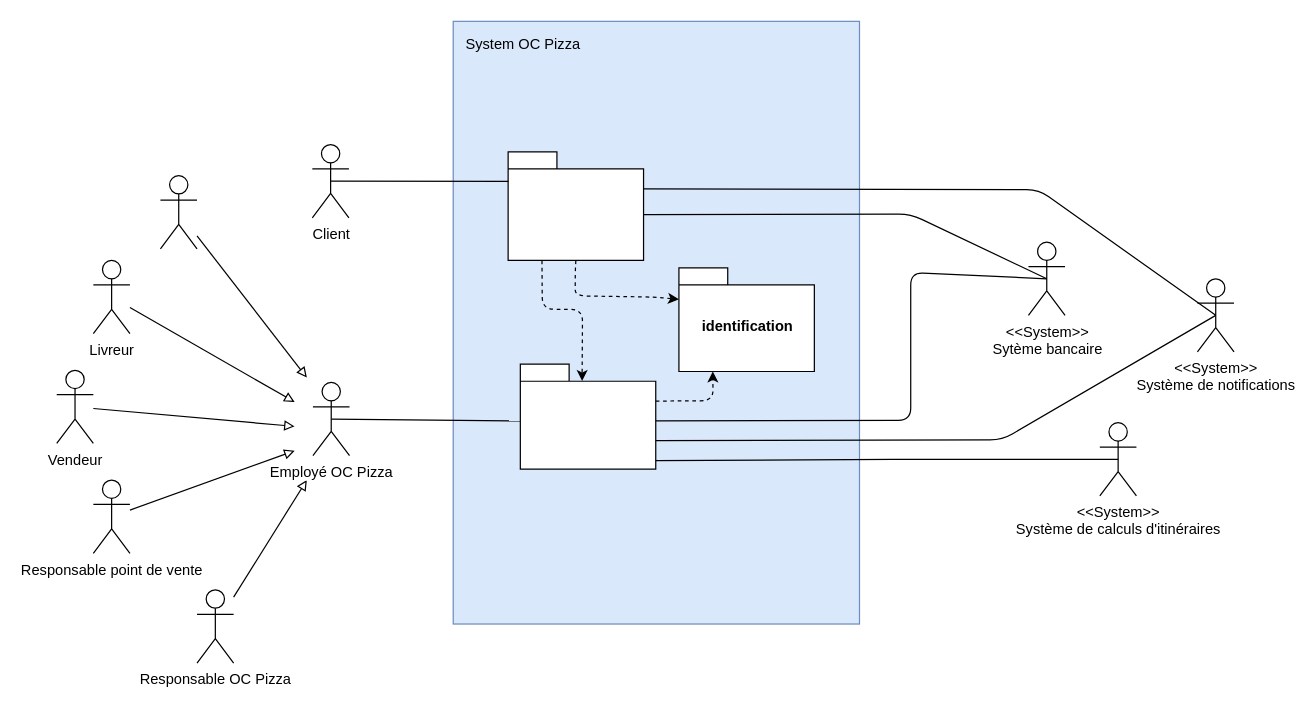
Image size: 1316x710. Some labels were removed from this diagram. The centre of each missing label's shape, as x and y in pixels:
Commande: point (575, 205)
Gestion OC Pizza: point (587, 416)
Pizzaiolo: point (178, 211)
